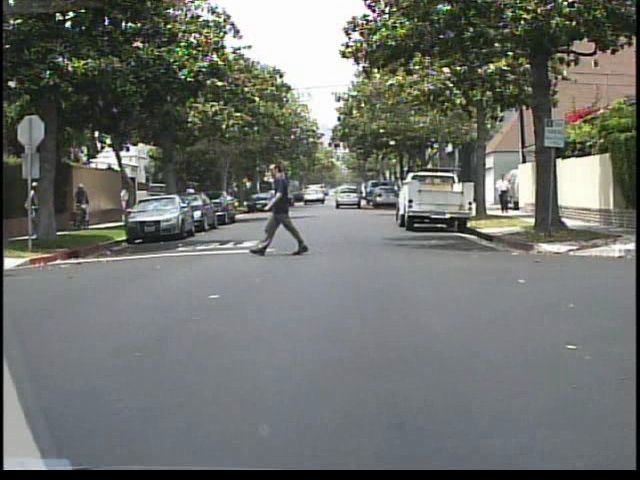person: (250, 157, 313, 259), (26, 178, 53, 236), (493, 171, 514, 214), (182, 178, 200, 216), (71, 177, 94, 206)
